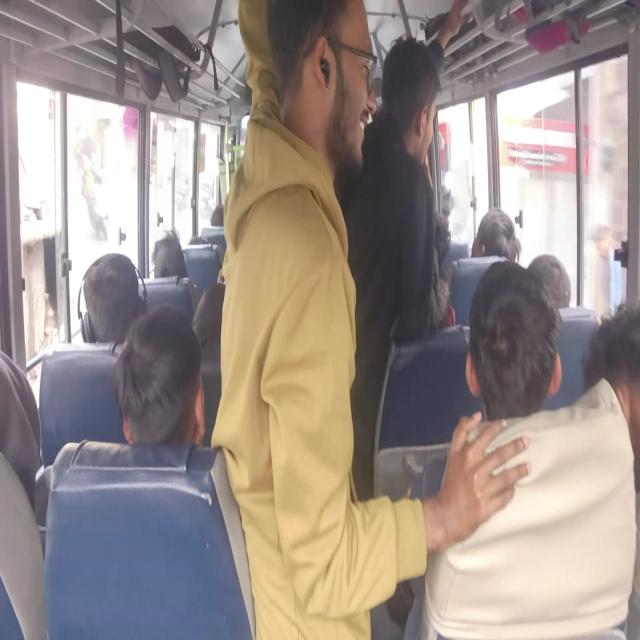person: (210, 0, 532, 638), (420, 259, 637, 638), (336, 34, 450, 503), (464, 259, 562, 422), (113, 304, 206, 446), (582, 300, 639, 490), (0, 349, 43, 514), (78, 252, 147, 344), (471, 207, 522, 263), (527, 253, 571, 309), (150, 228, 188, 278)
